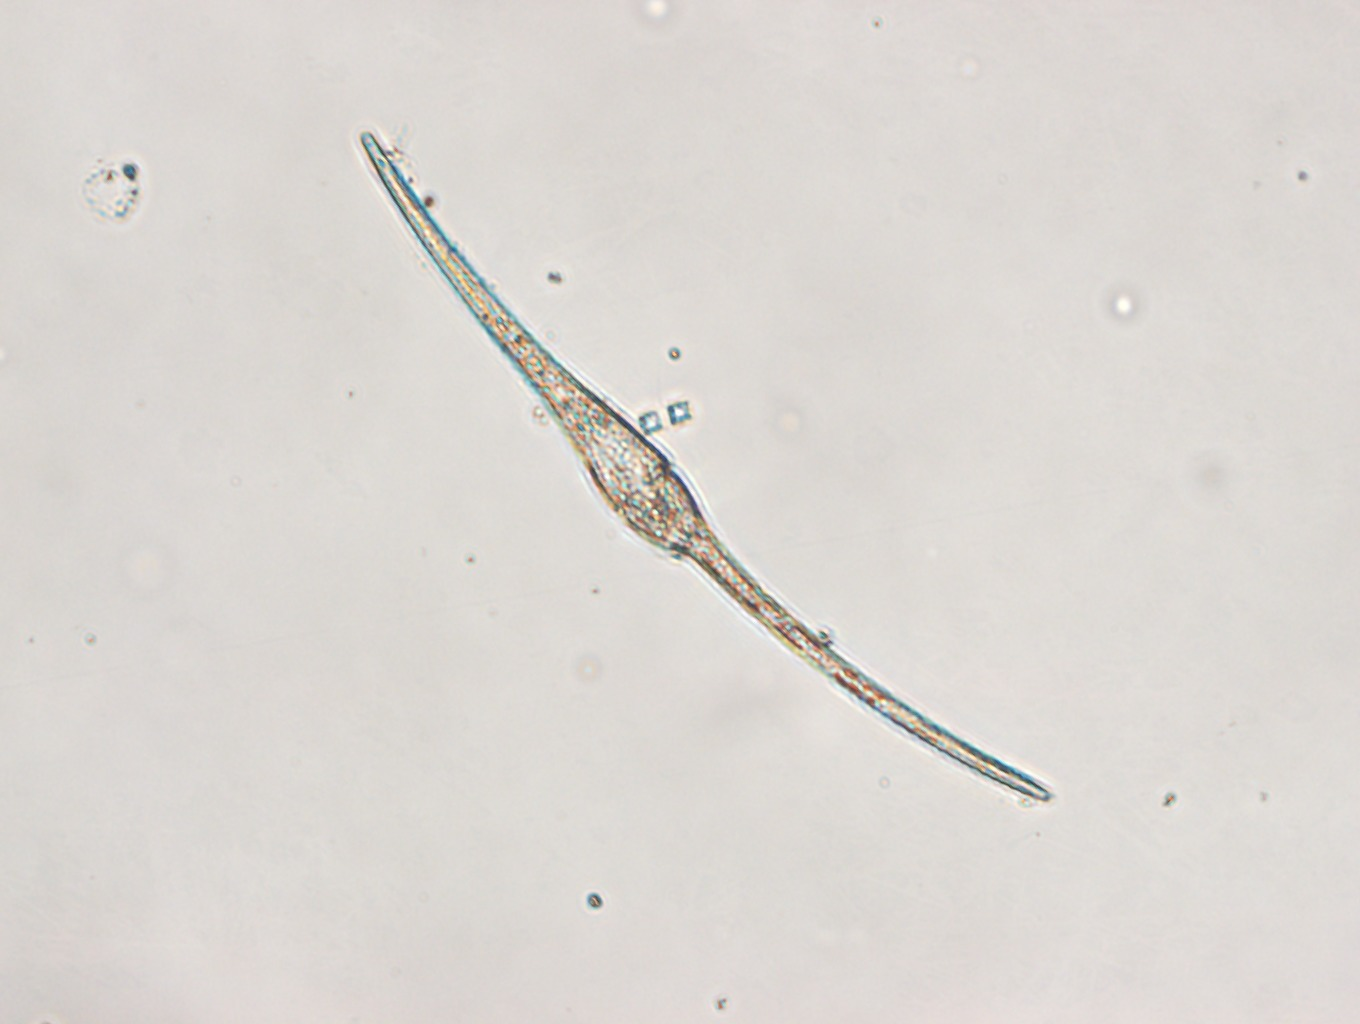ceratium fusus: (355, 126, 1055, 806)
